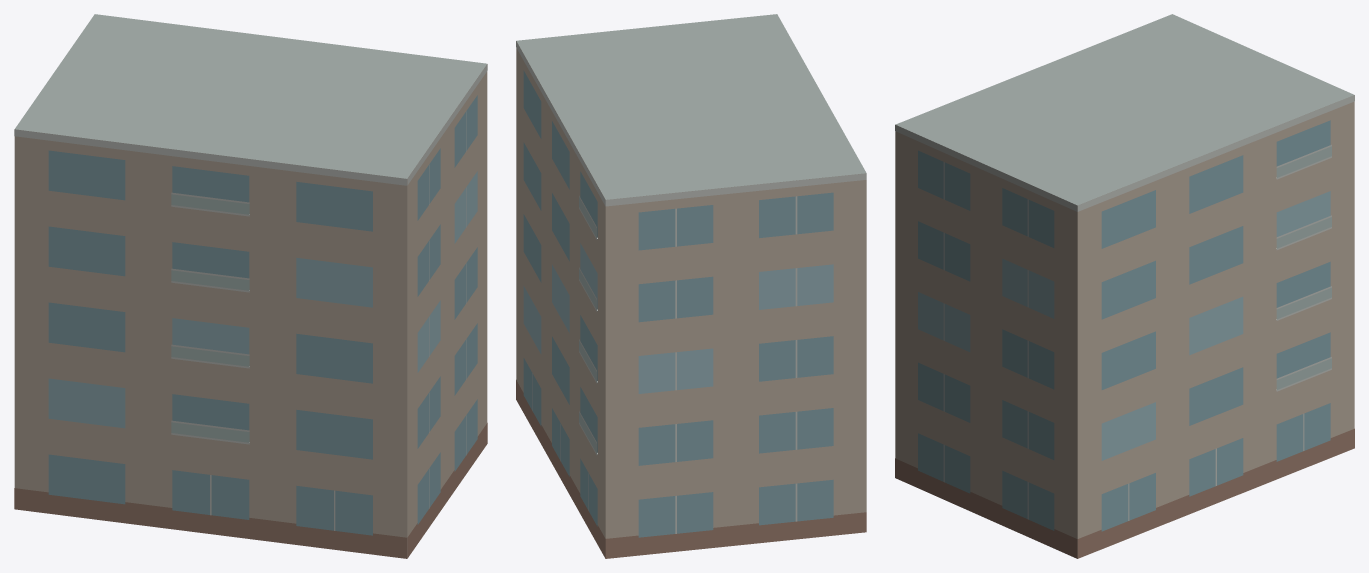
Rendered from survey-upis-32710075.glb.
The picture shows the model from 3 angles, left to right: view 1: azimuth 30°, elevation 25°; view 2: azimuth 150°, elevation 25°; view 3: azimuth 270°, elevation 25°; orthographic projection. The views are drawn at different scales.
Visible parts, largest first — view 1: survey-upis-32710075.tmp; view 2: survey-upis-32710075.tmp; view 3: survey-upis-32710075.tmp.
Boxes of the visible parts, x1,y1,x2,y2 form: survey-upis-32710075.tmp: (14,14,487,558); survey-upis-32710075.tmp: (516,14,866,558); survey-upis-32710075.tmp: (895,14,1354,558).
Size of the model in its own units: 15.46 by 13.3 by 15.68.
